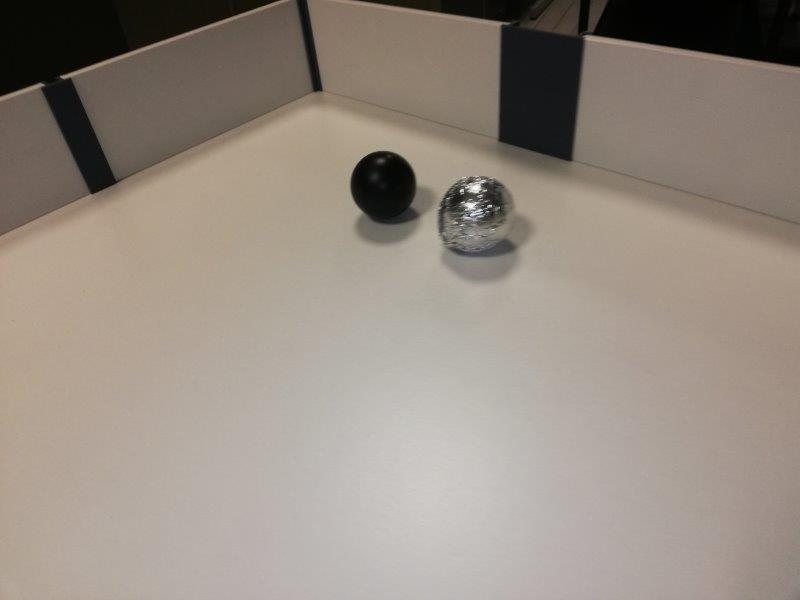bianca: (438, 177, 516, 254)
nera: (348, 149, 418, 219)
